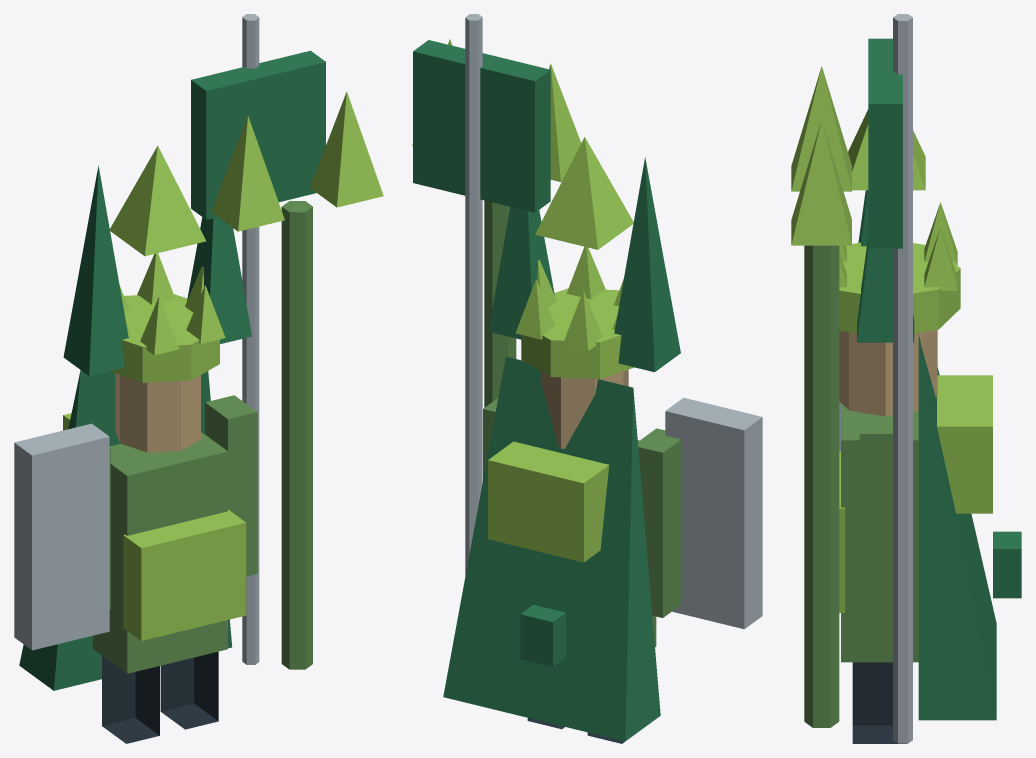
File: converter.obj
3 renders of one model, left to right at view 1: azimuth 30°, elevation 25°; view 2: azimuth 150°, elevation 25°; view 3: azimuth 270°, elevation 25°, orthographic. The views are drawn at different scales.
Parts seen in each view (by area): view 1: hero; view 2: hero; view 3: hero.
Part boxes in pixels (bbox=[...]): hero: bbox=[14, 14, 383, 743]; hero: bbox=[412, 14, 762, 743]; hero: bbox=[791, 14, 1021, 743].
Size of the model in its own units: 1.35 by 2.61 by 0.72.
